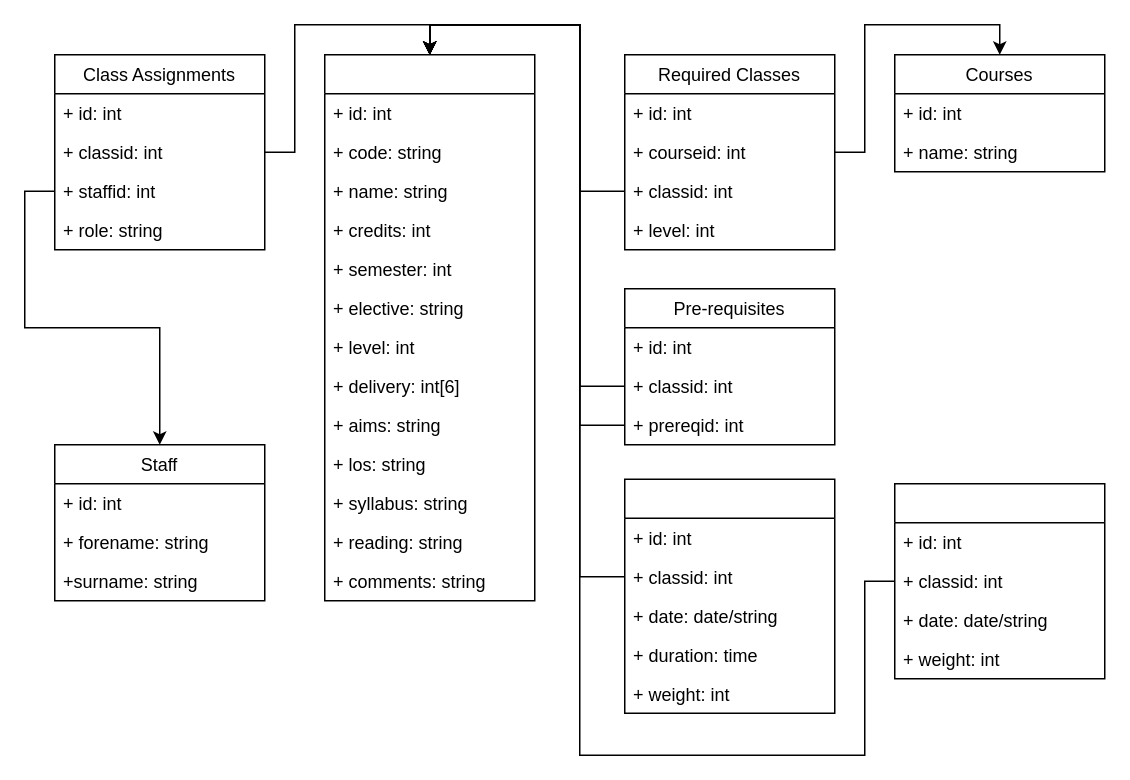
This 1130x780 diagram has some shape labels left out. The shapes that lost their labels are listed below. From the top down, each one's box as (x1, y1, x2, y2) in pixels, then its label:
(323, 53, 535, 601): Classes
(623, 478, 835, 713): Exams
(893, 482, 1105, 679): Coursework
